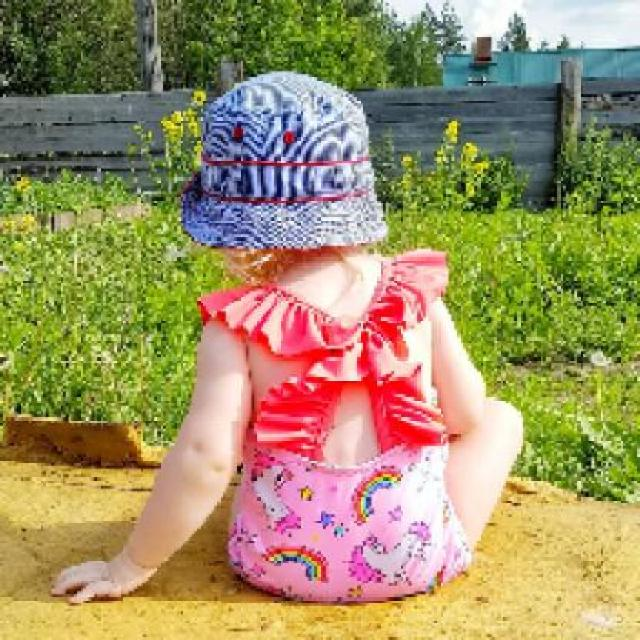child: (46, 69, 526, 605)
